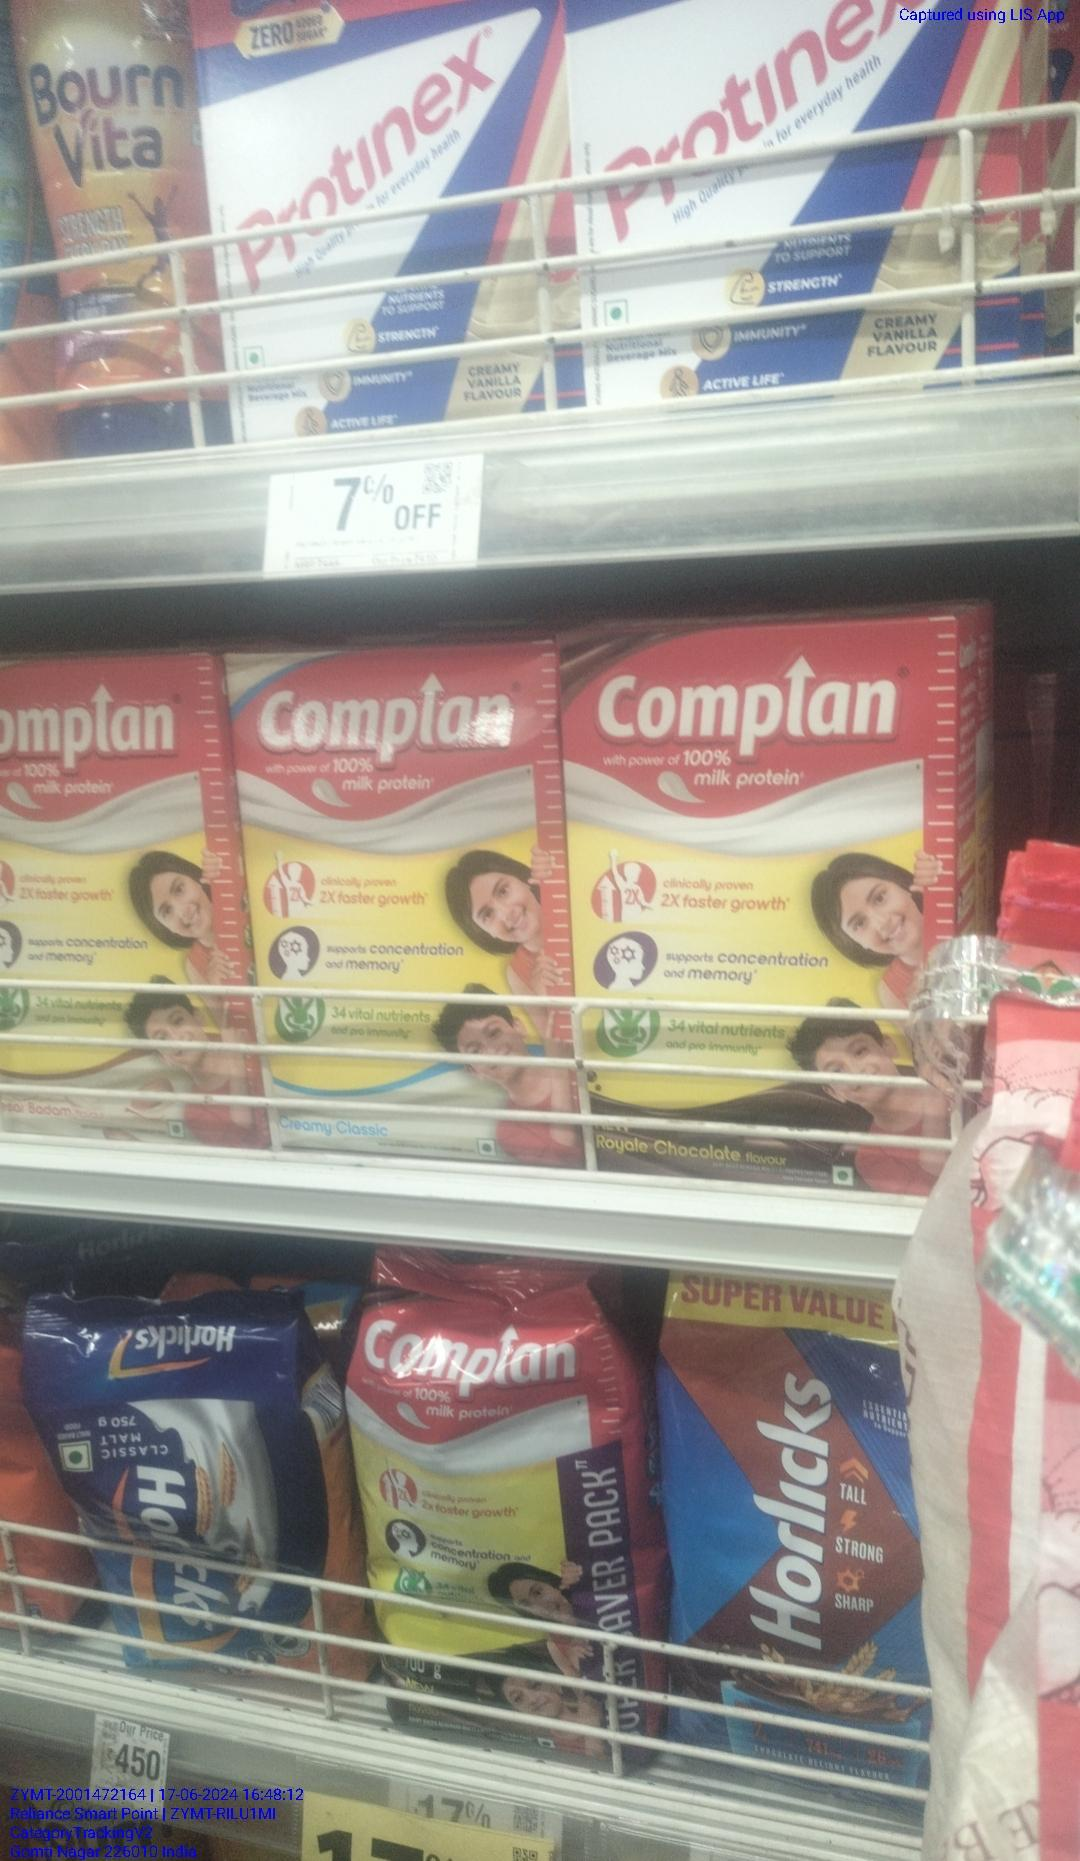COMPLAN_CHOCOLATE_500_GMS_PACK: (573, 621, 955, 1199)
COMPLAN_CREAMY_CLASSIC_500_G_PACK: (233, 648, 570, 1162)
COMPLAN_RC_POUCH_700_GMS_12: (365, 1261, 657, 1770)
HORLICK_CHOCOLATE_750_G_POUCH: (670, 1280, 945, 1798)
